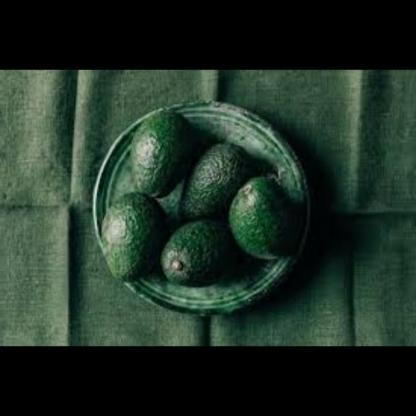avocado: (120, 101, 200, 211), (234, 156, 305, 267), (92, 188, 167, 283), (167, 206, 240, 296), (166, 136, 246, 218)
